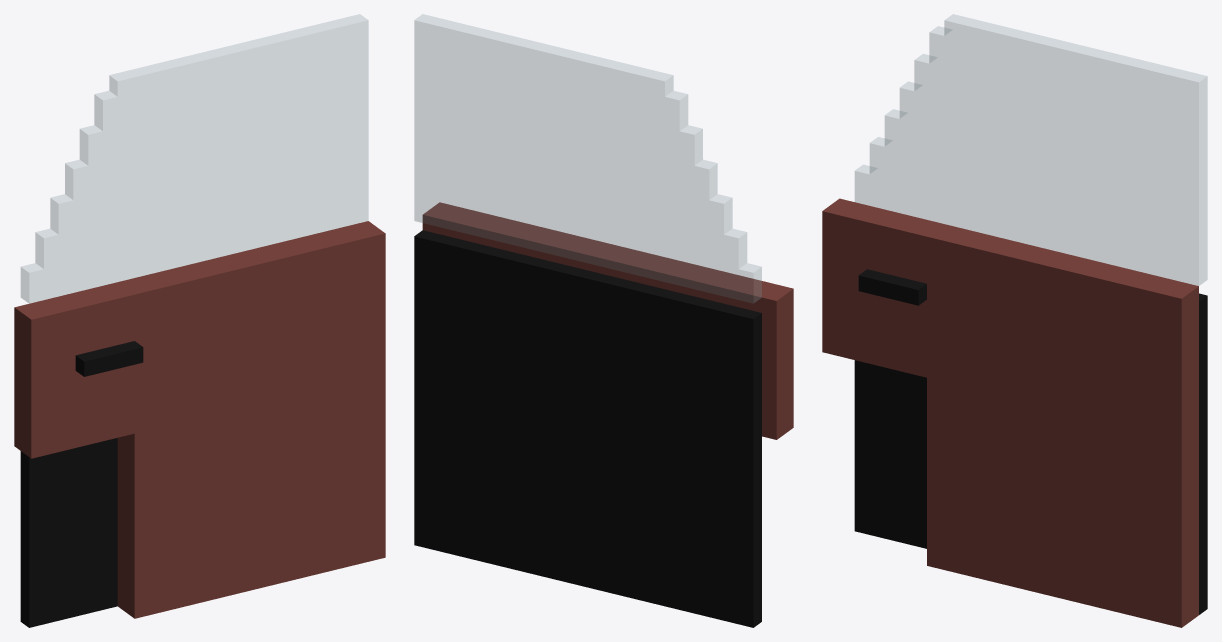
File: hatchback_rear_door.glb
3 views of the same model, side by side, from view 1: azimuth 30°, elevation 25°; view 2: azimuth 150°, elevation 25°; view 3: azimuth 330°, elevation 25° (orthographic).
Parts seen in each view (by area): view 1: body:compound; view 2: body:compound; view 3: body:compound.
Part boxes in pixels (left/top/right/bottom): body:compound: left=14, top=14, right=385, bottom=627; body:compound: left=414, top=14, right=793, bottom=627; body:compound: left=822, top=14, right=1207, bottom=627.
Size of the model in its own units: 0.75 by 1.06 by 0.125.
